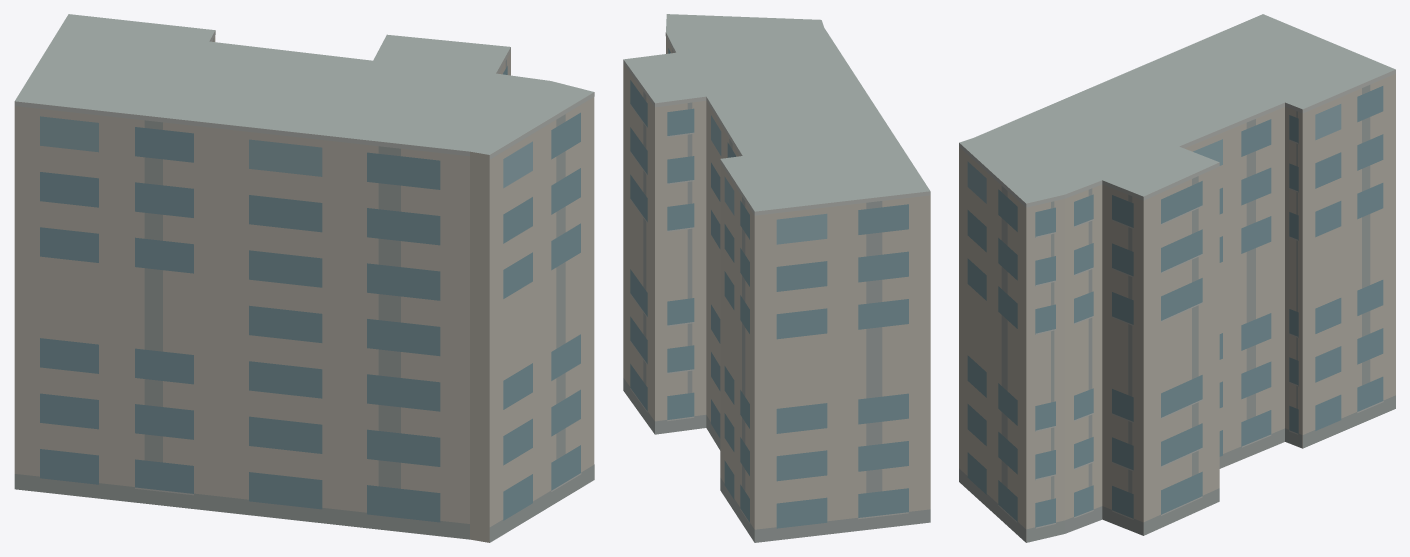
The model's file is survey-upis-32736712.glb.
The picture shows the model from 3 angles, left to right: view 1: azimuth 30°, elevation 25°; view 2: azimuth 150°, elevation 25°; view 3: azimuth 270°, elevation 25°; orthographic projection. The views are drawn at different scales.
Visible parts, largest first — view 1: survey-upis-32736712.tmp; view 2: survey-upis-32736712.tmp; view 3: survey-upis-32736712.tmp.
Part boxes in pixels (bbox=[...]): survey-upis-32736712.tmp: bbox=[14, 14, 594, 542]; survey-upis-32736712.tmp: bbox=[623, 14, 930, 542]; survey-upis-32736712.tmp: bbox=[959, 14, 1395, 542].
Bounding box in the file's own units: 23.98 × 20 × 23.34.
